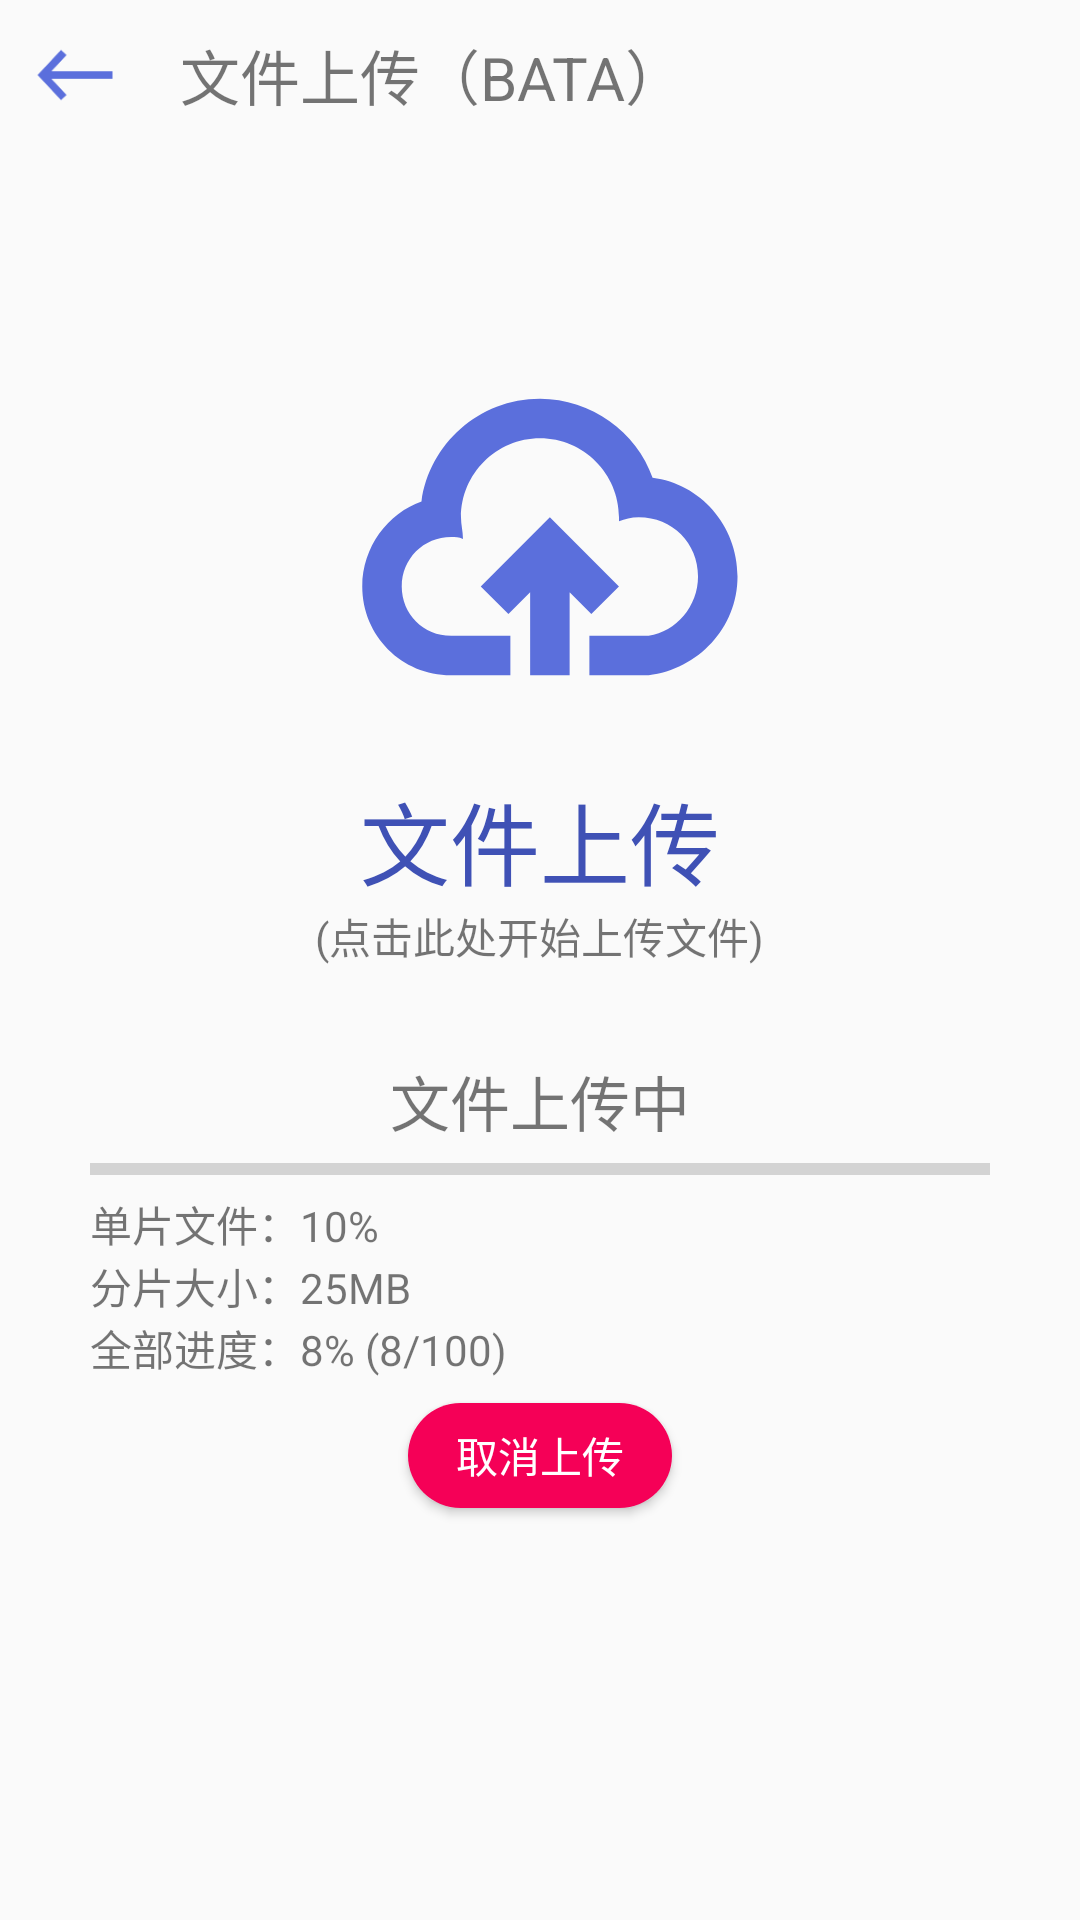

Locate icon controls on the screen. Image size 1080px x 1920px, boxes as bbox(x1, y1, x2, y2).
back: bbox(37, 50, 113, 100)
